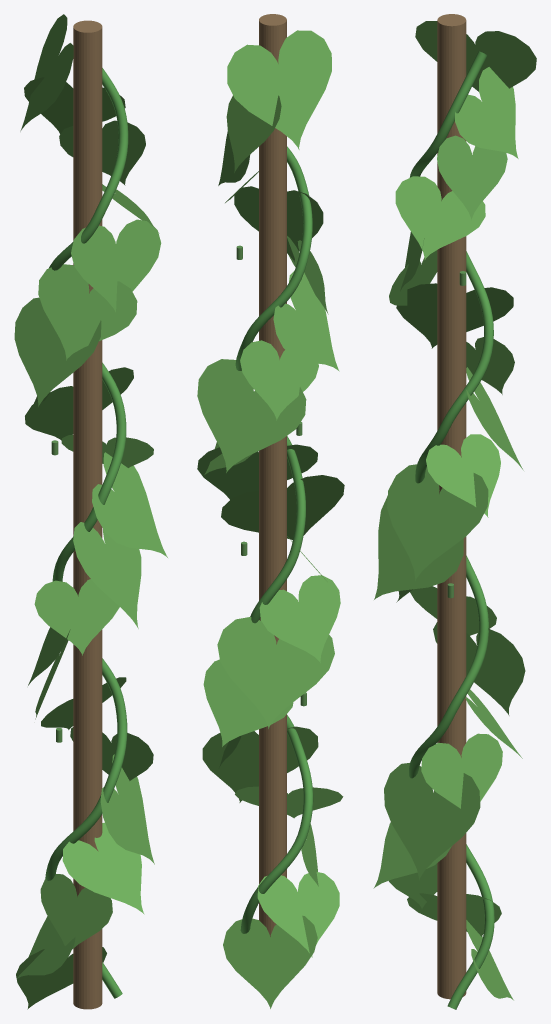
Rendered from yam_4.glb.
3 views of the same model, side by side, from view 1: azimuth 30°, elevation 25°; view 2: azimuth 150°, elevation 25°; view 3: azimuth 270°, elevation 25° (orthographic). The views are drawn at different scales.
Visible parts, largest first — view 1: TrellisStake.002, Vine.002, UbeLeaf_16, UbeLeaf_17, UbeLeaf_15.001, UbeLeaf_03.002, UbeLeaf_11.001, UbeLeaf_10.001, UbeLeaf_09.001, UbeLeaf_02.002, UbeLeaf_04.002, UbeLeaf_21 (+11 smaller); view 2: TrellisStake.002, UbeLeaf_21, UbeLeaf_07.002, Vine.002, UbeLeaf_13.001, UbeLeaf_00.002, UbeLeaf_08.002, UbeLeaf_01.002, UbeLeaf_15.001, UbeLeaf_14.001, UbeLeaf_10.001, UbeLeaf_04.002 (+8 smaller); view 3: TrellisStake.002, Vine.002, UbeLeaf_11.001, UbeLeaf_04.002, UbeLeaf_18, UbeLeaf_05.002, UbeLeaf_20, UbeLeaf_12.001, UbeLeaf_10.001, UbeLeaf_19, UbeLeaf_21, UbeLeaf_07.002 (+11 smaller).
Part boxes in pixels (x1,y1,x2,y2): TrellisStake.002: (73,20,102,1009); Vine.002: (45,68,128,998); UbeLeaf_16: (38,264,137,360); UbeLeaf_17: (71,219,161,312); UbeLeaf_15.001: (14,297,101,406); UbeLeaf_03.002: (62,822,144,914); UbeLeaf_11.001: (92,452,167,557); UbeLeaf_10.001: (73,522,141,628); UbeLeaf_09.001: (34,579,119,655); UbeLeaf_02.002: (40,874,112,949); UbeLeaf_04.002: (100,754,154,864); UbeLeaf_21: (20,14,73,131); TrellisStake.002: (259,14,286,936); UbeLeaf_21: (227,30,331,149); UbeLeaf_07.002: (217,617,334,728); Vine.002: (235,146,313,933); UbeLeaf_13.001: (197,359,306,472); UbeLeaf_00.002: (223,915,317,1008); UbeLeaf_08.002: (259,575,340,662); UbeLeaf_01.002: (257,872,339,957); UbeLeaf_15.001: (273,271,339,371); UbeLeaf_14.001: (240,340,318,420); UbeLeaf_10.001: (221,475,344,539); UbeLeaf_04.002: (202,726,318,802); TrellisStake.002: (437,14,466,999); Vine.002: (409,51,494,1009); UbeLeaf_11.001: (387,464,488,580); UbeLeaf_04.002: (384,763,480,880); UbeLeaf_18: (395,176,485,259); UbeLeaf_05.002: (421,733,502,808); UbeLeaf_20: (455,67,518,158); UbeLeaf_12.001: (426,434,500,517); UbeLeaf_10.001: (374,496,463,599); UbeLeaf_19: (437,135,507,220); UbeLeaf_21: (415,21,536,91); UbeLeaf_07.002: (433,622,525,715).
Bounding box in the file's own units: 0.3477 × 2.66 × 0.3965.
